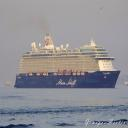cruises: (16, 36, 122, 90)
